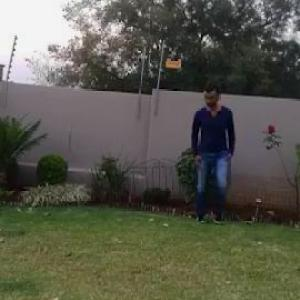follow: (196, 76, 246, 238)
